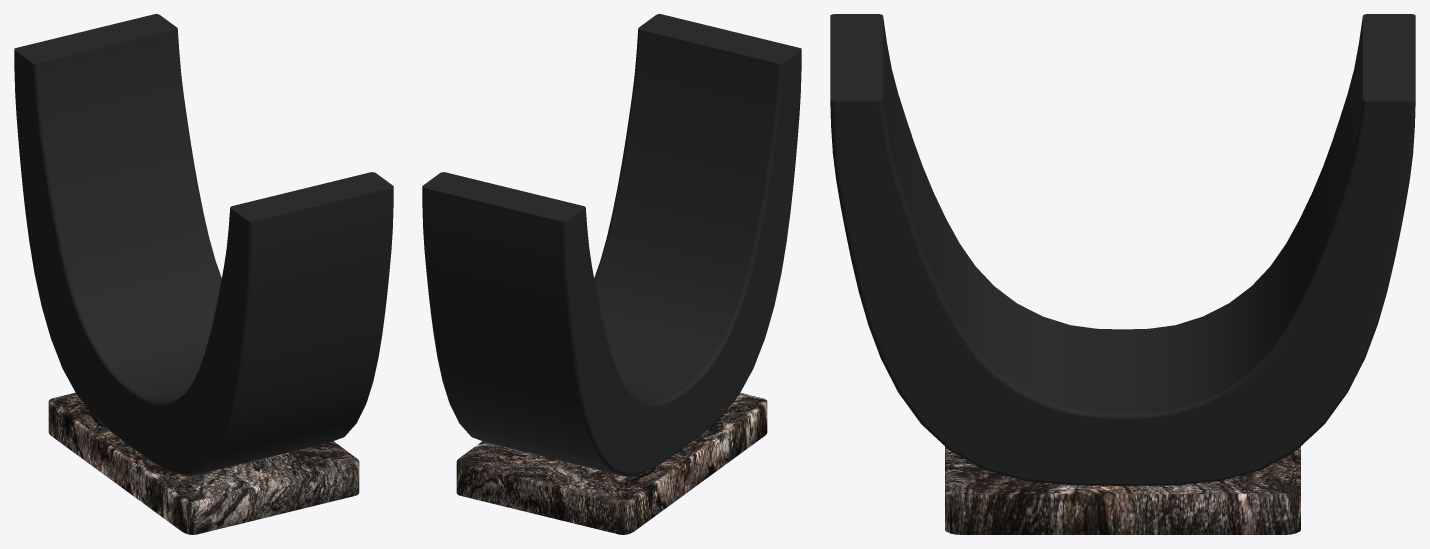
Rendered from BaseMonolithCurveX.glb.
3 renders of one model, left to right at view 1: azimuth 30°, elevation 25°; view 2: azimuth 150°, elevation 25°; view 3: azimuth 270°, elevation 25°, orthographic. The views are drawn at different scales.
Visible parts, largest first — view 1: BaseMonolithCurveX; view 2: BaseMonolithCurveX; view 3: BaseMonolithCurveX.
Part boxes in pixels (x1,y1,x2,y2): BaseMonolithCurveX: (14,14,393,534); BaseMonolithCurveX: (422,14,801,534); BaseMonolithCurveX: (830,14,1415,534).
Size of the model in its own units: 0.3732 by 0.7039 by 0.8762.
2 materials, 1 textured.
